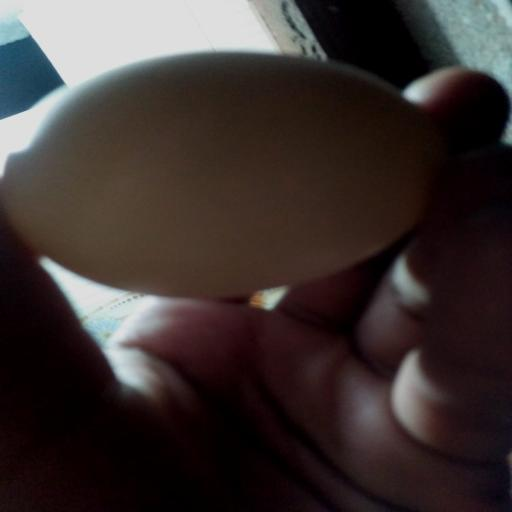telur: (2, 52, 448, 297)
